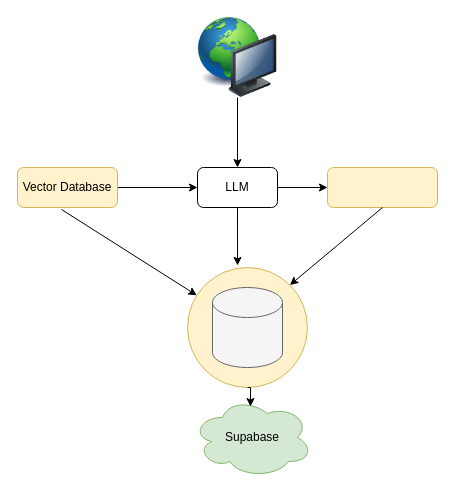
Image size: 455x495. Some labels were removed from this diagram. The box of each missing label's shape, as (x1, y1, x2, y2) in pixels:
Embedding Model: (326, 166, 438, 208)
PostgreSQL: (212, 286, 282, 368)
